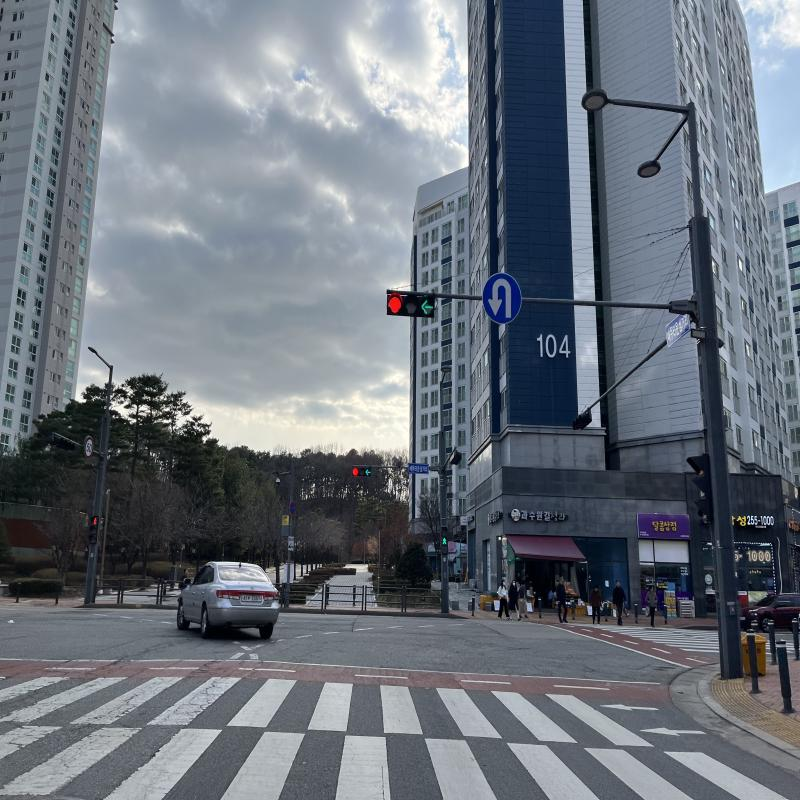left: (419, 296, 434, 317)
red: (387, 295, 403, 314)
